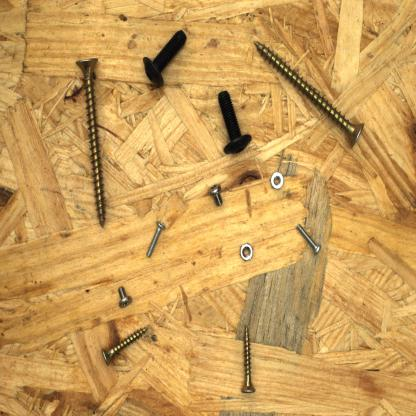screw: (252, 38, 366, 152), (75, 56, 107, 231), (140, 27, 188, 89), (217, 89, 253, 157), (100, 323, 150, 367), (241, 323, 256, 395), (296, 221, 323, 255), (144, 219, 166, 259), (207, 182, 225, 208), (117, 284, 132, 310)
